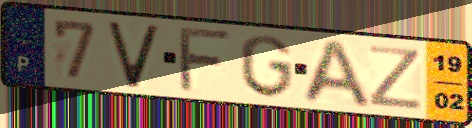7: (50, 18, 98, 81)
A: (298, 38, 376, 111)
F: (176, 26, 236, 94)
G: (237, 33, 296, 101)
V: (105, 21, 162, 90)
Z: (366, 43, 426, 112)
